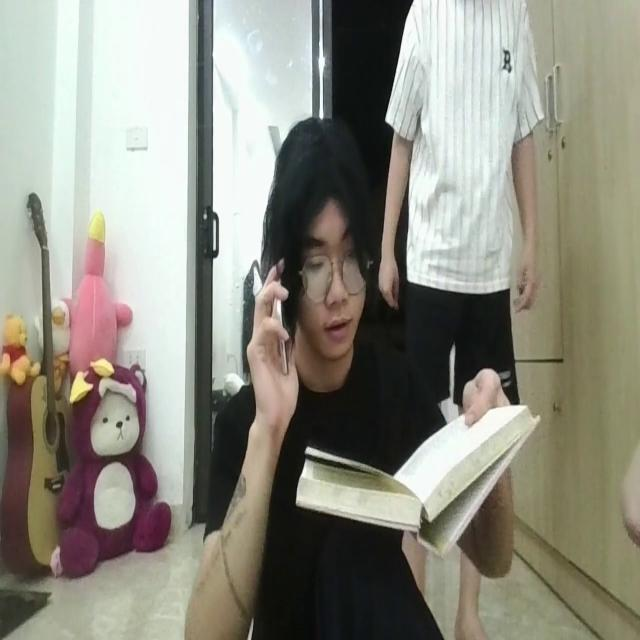book: (295, 390, 540, 550)
extra_person: (376, 0, 546, 402)
phone: (270, 260, 294, 377)
student: (190, 114, 509, 640)
